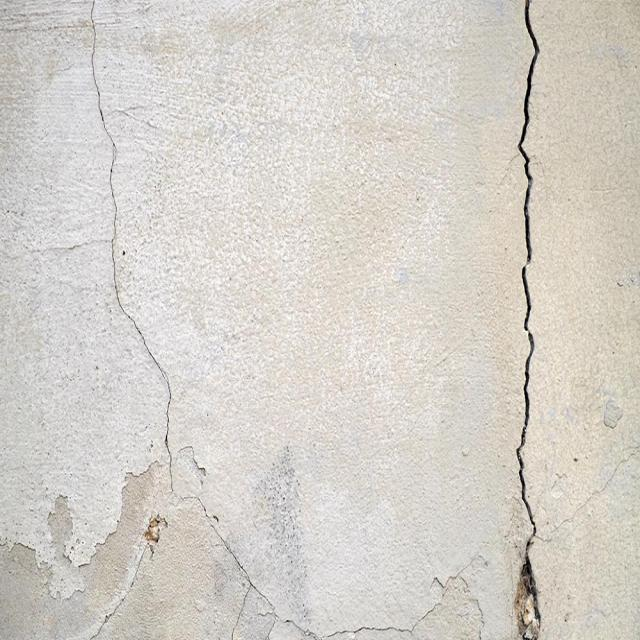Crack: (89, 1, 174, 492), (274, 544, 488, 639), (182, 497, 315, 639), (516, 0, 543, 639), (85, 518, 153, 639)
